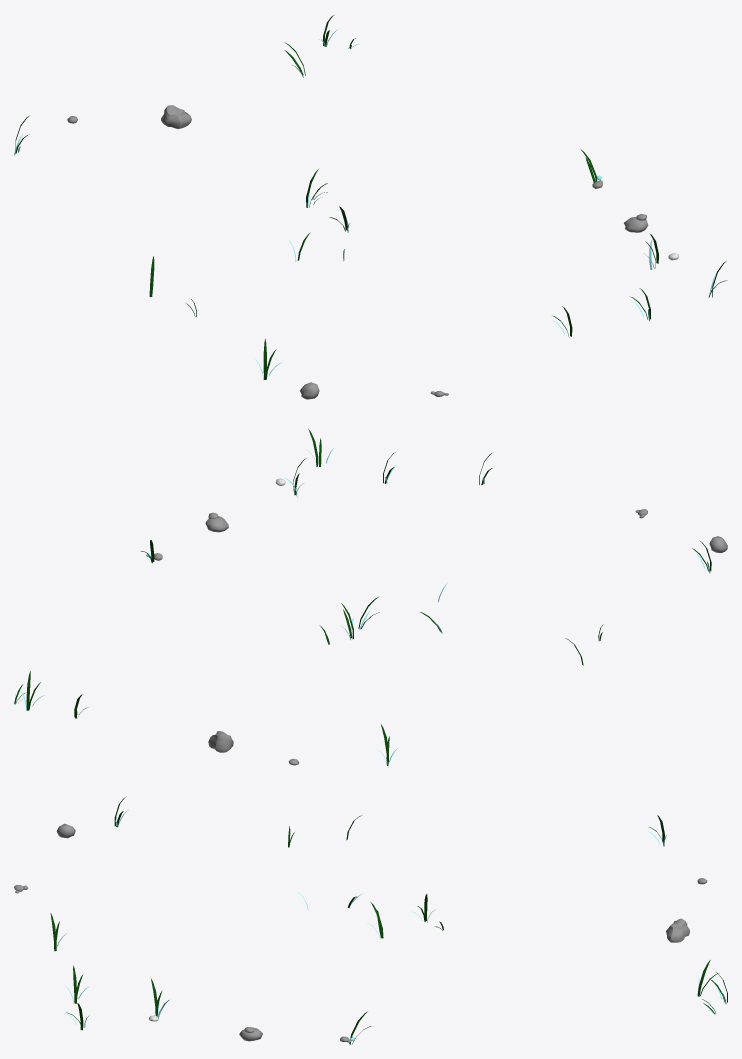
The model's file is WaterPond01_NoCollision.fbx.
The picture shows the model from 3 angles, top to bottom: view 1: azimuth 30°, elevation 25°; view 2: azimuth 150°, elevation 25°; view 3: azimuth 270°, elevation 25°; orthographic projection. The views are drawn at different scales.
Parts seen in each view (by area): view 1: no part large enough to name; view 2: no part large enough to name; view 3: Box013.
Part boxes in pixels (x1,y1,x2,y2): Box013: (666,918,689,942).
Size of the model in its own units: 51.48 by 6.08 by 73.01.
